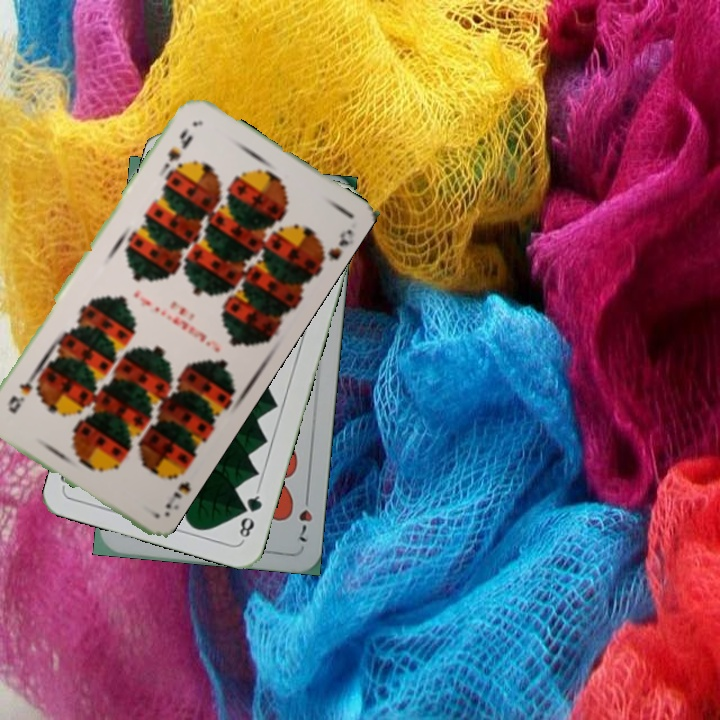G8: (235, 485, 265, 543)
H7: (294, 489, 315, 545)
S9: (160, 123, 196, 171), (161, 462, 192, 512)
